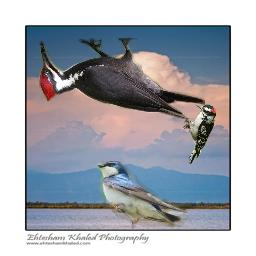Swallow: (97, 161, 189, 230)
Woodpecker: (39, 38, 205, 119), (183, 103, 216, 164)
